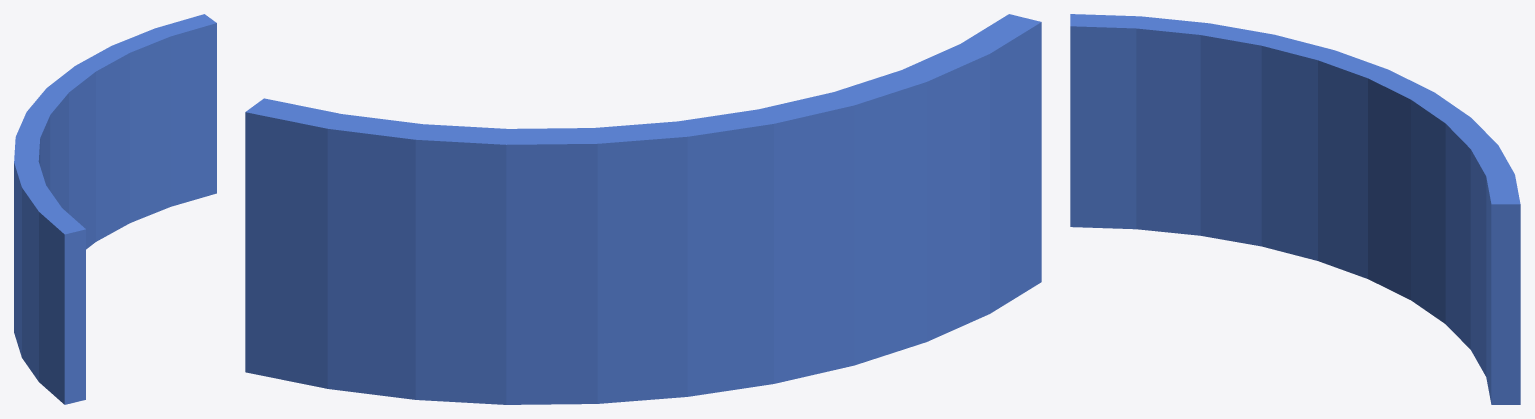
File: TopPadded_Flat_Curve_Round_Outer_Collision.fbx
The picture shows the model from 3 angles, left to right: view 1: azimuth 30°, elevation 25°; view 2: azimuth 150°, elevation 25°; view 3: azimuth 270°, elevation 25°; orthographic projection. The views are drawn at different scales.
Parts seen in each view (by area): view 1: TopPadded_Flat_Curve_Round_Outer_Collision; view 2: TopPadded_Flat_Curve_Round_Outer_Collision; view 3: TopPadded_Flat_Curve_Round_Outer_Collision.
Boxes of the visible parts, x1,y1,x2,y2 form: TopPadded_Flat_Curve_Round_Outer_Collision: (14,14,216,404); TopPadded_Flat_Curve_Round_Outer_Collision: (245,14,1041,404); TopPadded_Flat_Curve_Round_Outer_Collision: (1070,14,1520,404).
Size of the model in its own units: 406 by 200 by 406.
